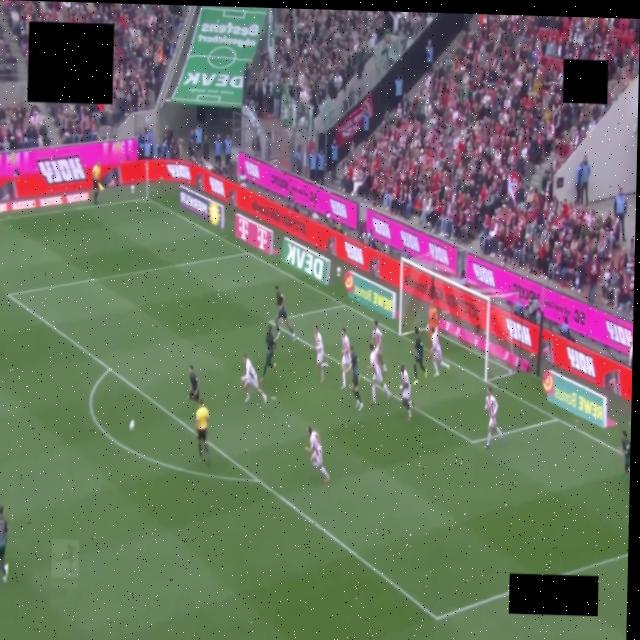ball: (129, 420, 134, 430)
player: (305, 426, 329, 482), (369, 344, 390, 403), (241, 354, 266, 402), (274, 286, 295, 340), (484, 386, 502, 449), (429, 329, 449, 376), (349, 347, 362, 410), (261, 324, 275, 380), (400, 364, 414, 420), (413, 328, 426, 386), (314, 326, 327, 383), (372, 321, 386, 372), (0, 505, 7, 583), (341, 328, 350, 388), (187, 365, 199, 401), (620, 431, 630, 474), (426, 300, 437, 332)
referee: (195, 399, 209, 464)
